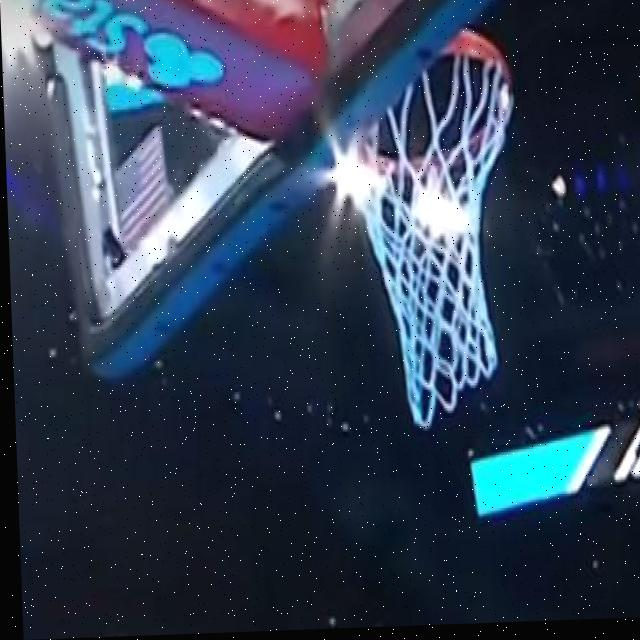hoop: (324, 34, 508, 432)
